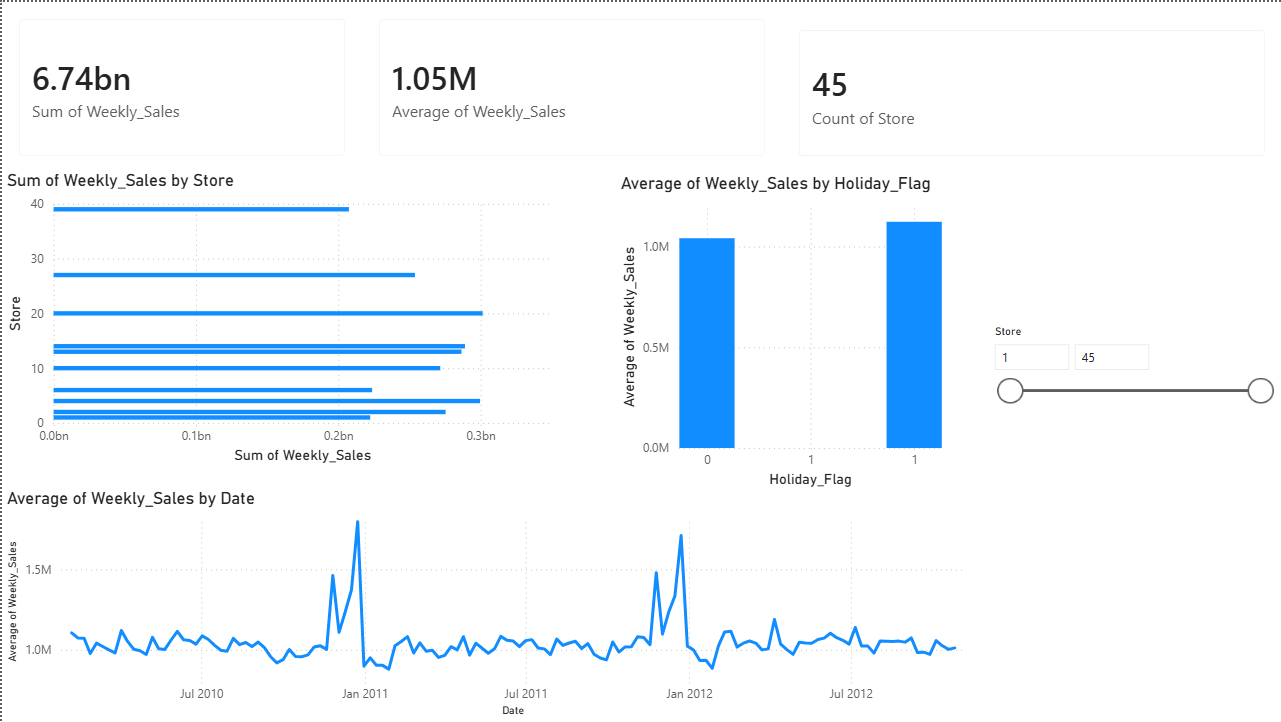

The dashboard page shown, as its layout file describes it:
{"tool":"powerbi","page":{"name":"Page 1","canvas":[1280,720],"ordinal":0},"visuals":[{"type":"cardVisual","fields":{"Data":["Sum(Walmart.Weekly_Sales)"]},"box":[0,0,360,171.2],"z":0},{"type":"cardVisual","fields":{"Data":["Avg(Walmart.Weekly_Sales)"]},"box":[360,0,420,171.2],"z":1},{"type":"cardVisual","fields":{"Data":["Count(Walmart.Store)"]},"box":[780,11.2,500,160],"z":2},{"type":"clusteredBarChart","fields":{"Category":["Walmart.Store"],"Y":["Sum(Walmart.Weekly_Sales)"]},"box":[0,167.5,570,298.8],"z":3},{"type":"clusteredColumnChart","fields":{"Category":["Walmart.Holiday_Flag"],"Y":["Avg(Walmart.Weekly_Sales)"]},"box":[613.8,171.2,331.2,318.8],"z":4},{"type":"lineChart","fields":{"Y":["Avg(Walmart.Weekly_Sales)"],"Category":["Walmart.Date"]},"box":[0,486.2,980,233.8],"z":5},{"type":"slicer","fields":{"Values":["Walmart.Store"]},"box":[980,317.5,300,132.5],"z":6}]}

Visuals, with their boxes in screenshot pixels (x1, y1, x2, y2), scaled from the page's 1280x720 canvas onto the 1281x722 screenshot:
cardVisual - Sum(Walmart.Weekly_Sales): 0, 0, 360, 172
cardVisual - Avg(Walmart.Weekly_Sales): 360, 0, 781, 172
cardVisual - Count(Walmart.Store): 781, 11, 1280, 172
clusteredBarChart - Walmart.Store x Sum(Walmart.Weekly_Sales): 0, 168, 570, 468
clusteredColumnChart - Walmart.Holiday_Flag x Avg(Walmart.Weekly_Sales): 614, 172, 946, 491
lineChart - Avg(Walmart.Weekly_Sales) x Walmart.Date: 0, 488, 981, 721
slicer - Walmart.Store: 981, 318, 1280, 451
